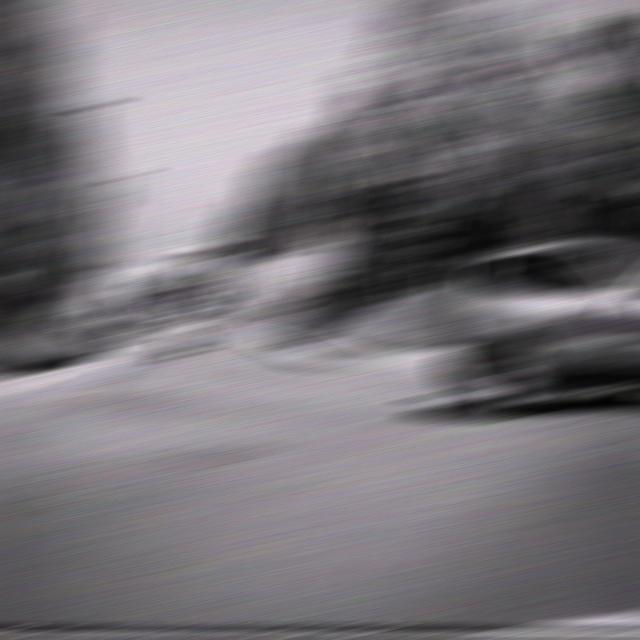speedLimit25: (312, 236, 343, 259)
